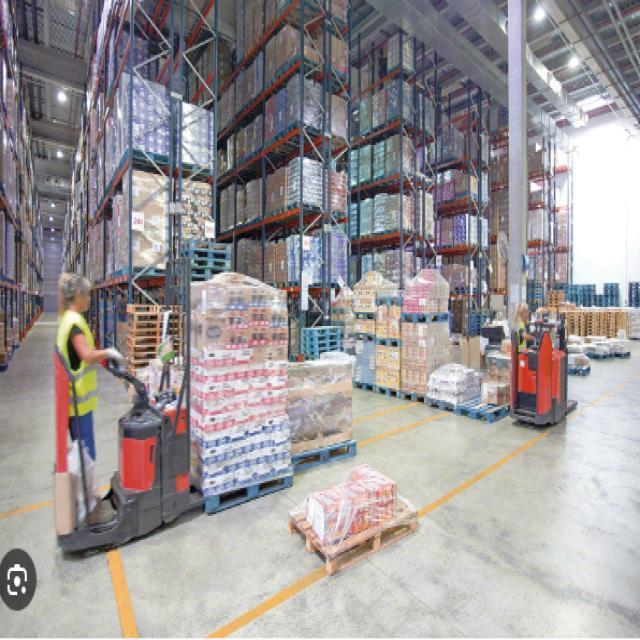vest: (53, 305, 100, 421)
